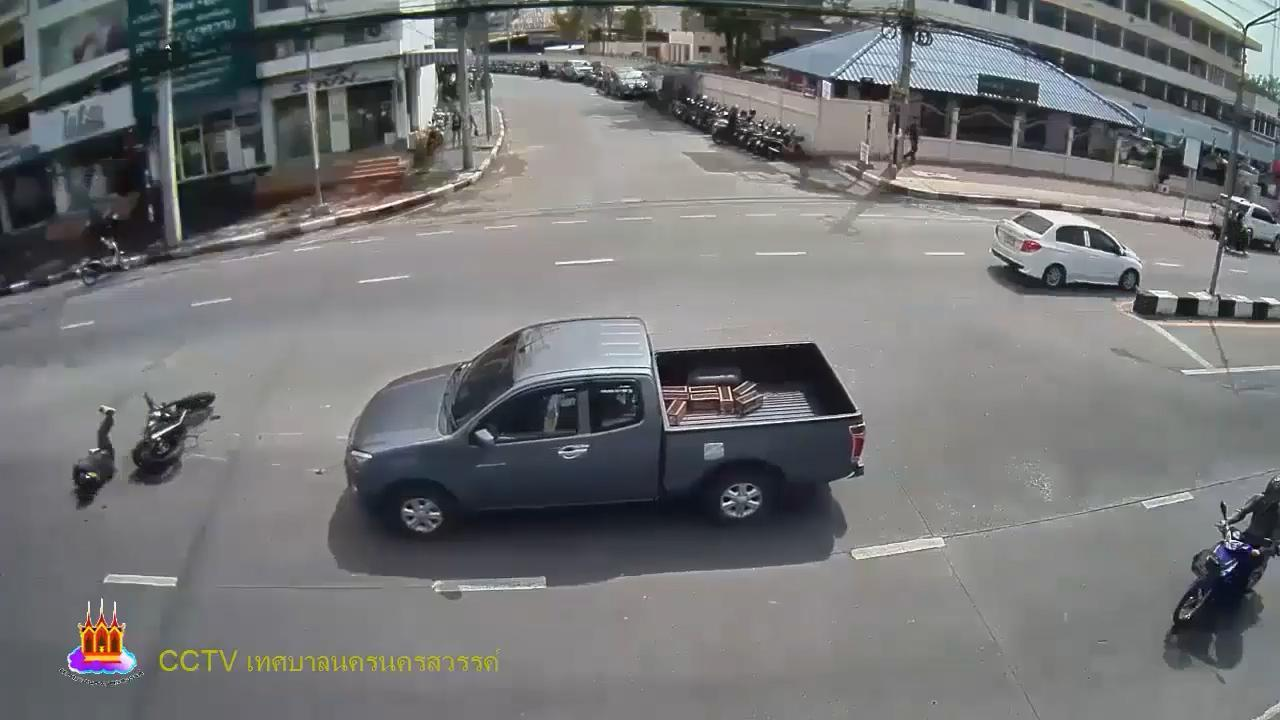accident: (69, 403, 129, 504)
